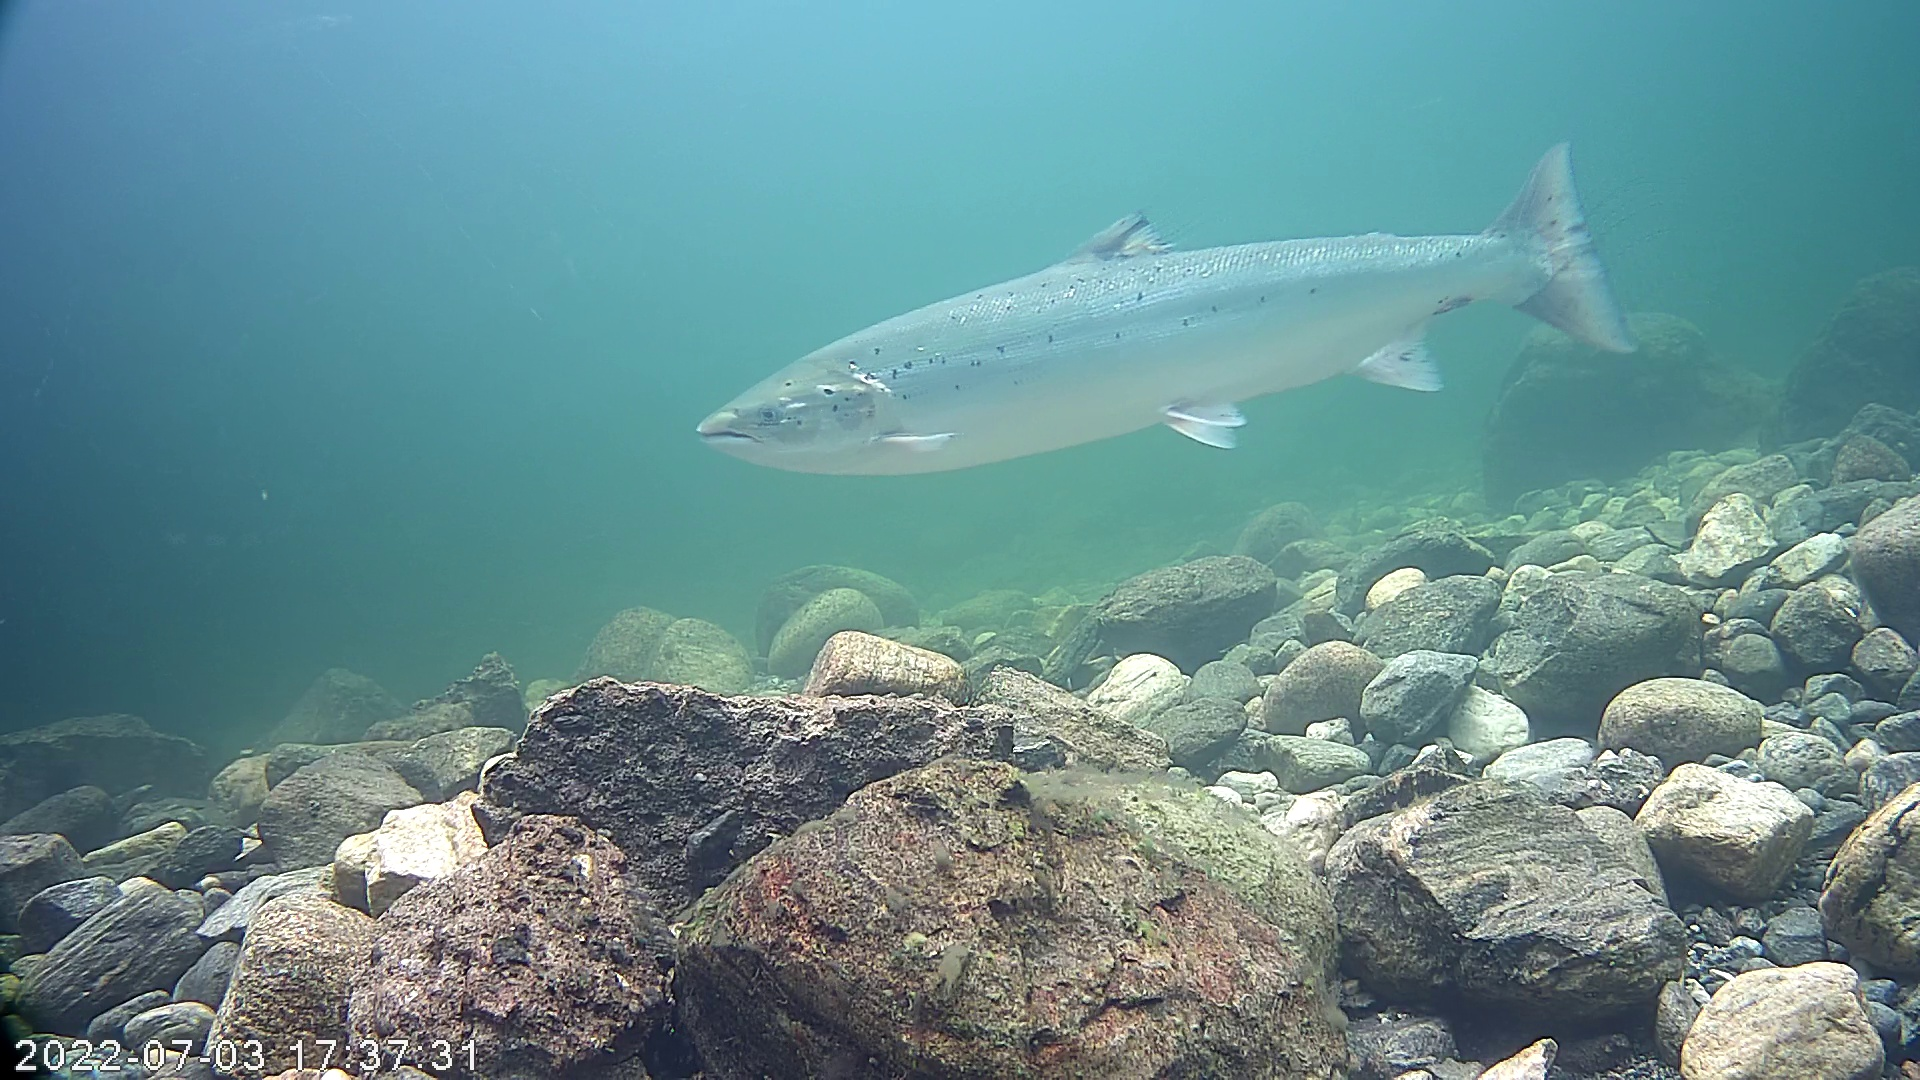salmon: (691, 135, 1646, 480)
